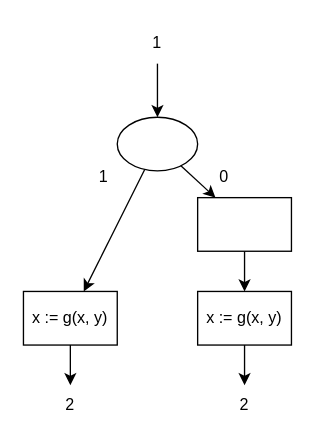
Some shapes in this 315 by 448 pixel diagram are drawn without their labels. Here are the shapes that lost their labels. From the top down, the centre of each, then its label:
(157,143): q(y, z)
(243,223): y := f(z)
